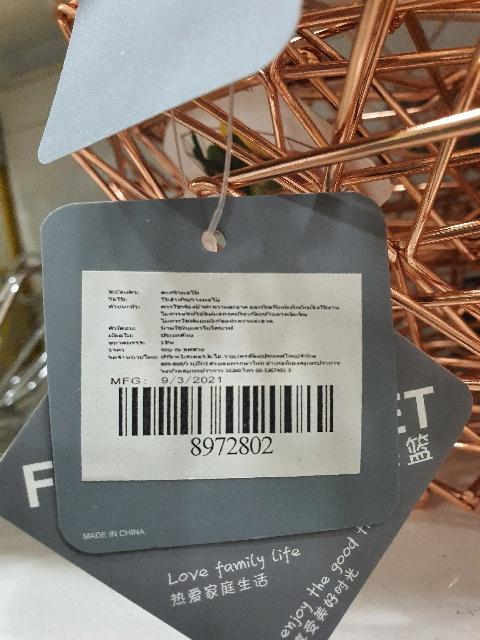Barcode: (109, 379, 340, 460)
